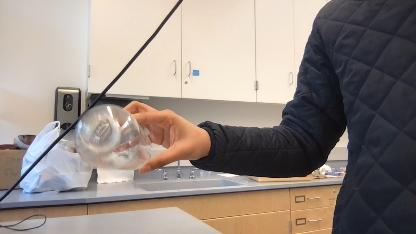Plastic Bottle: (76, 94, 156, 174)
